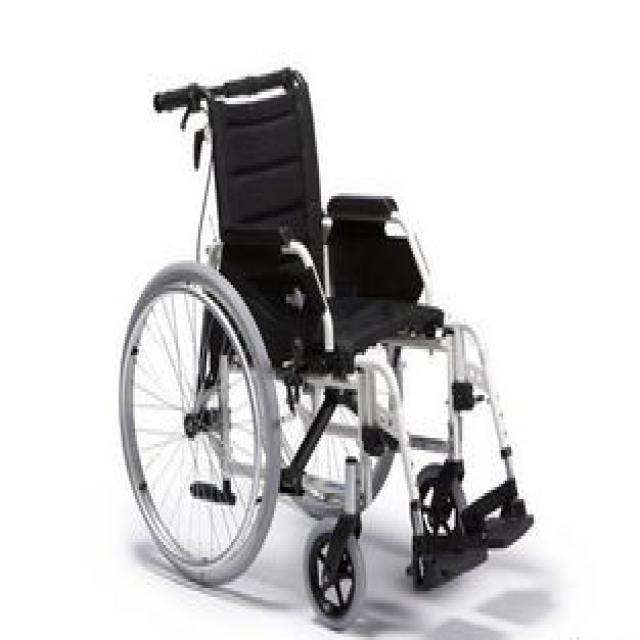wheelchair: (104, 55, 536, 637)
